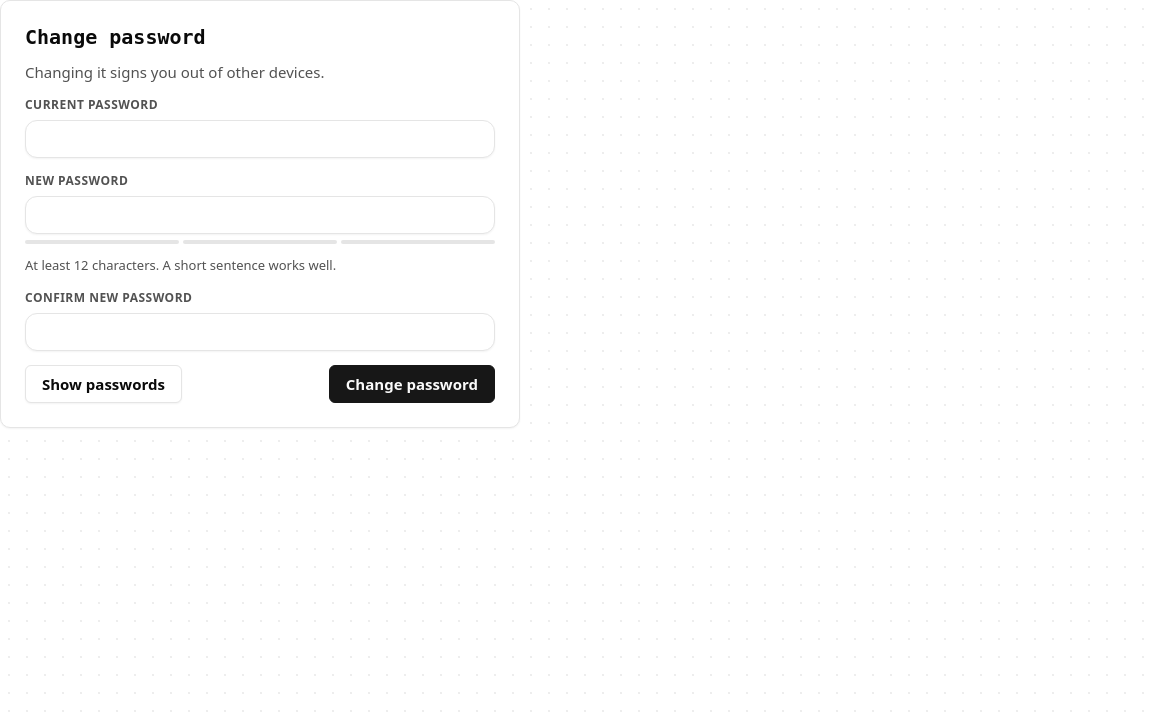
Test: ChangePasswordComponent › sends the current and new password, then confirms and clears the form
Type "Temp-Password-123" into the password field labelled "Current password" at (260, 138), box [25,120,495,158]
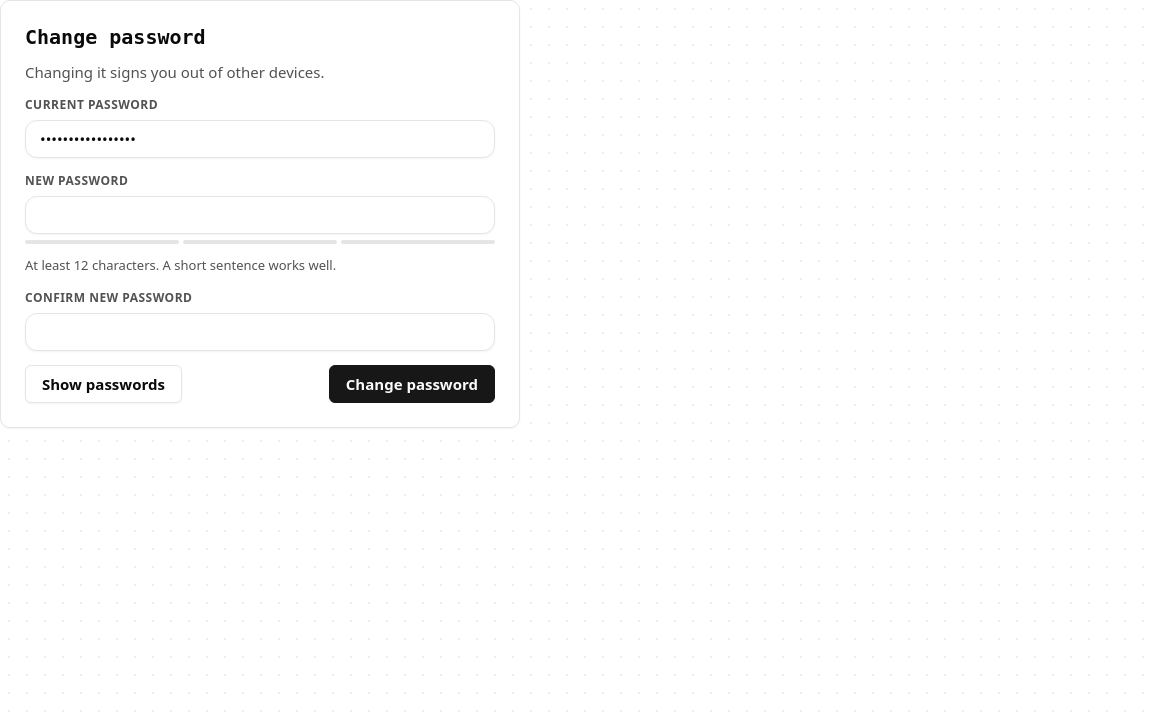
Type "A-brand-new-password" into the password field with test id "cp-new" at (260, 214), box [25,196,495,234]
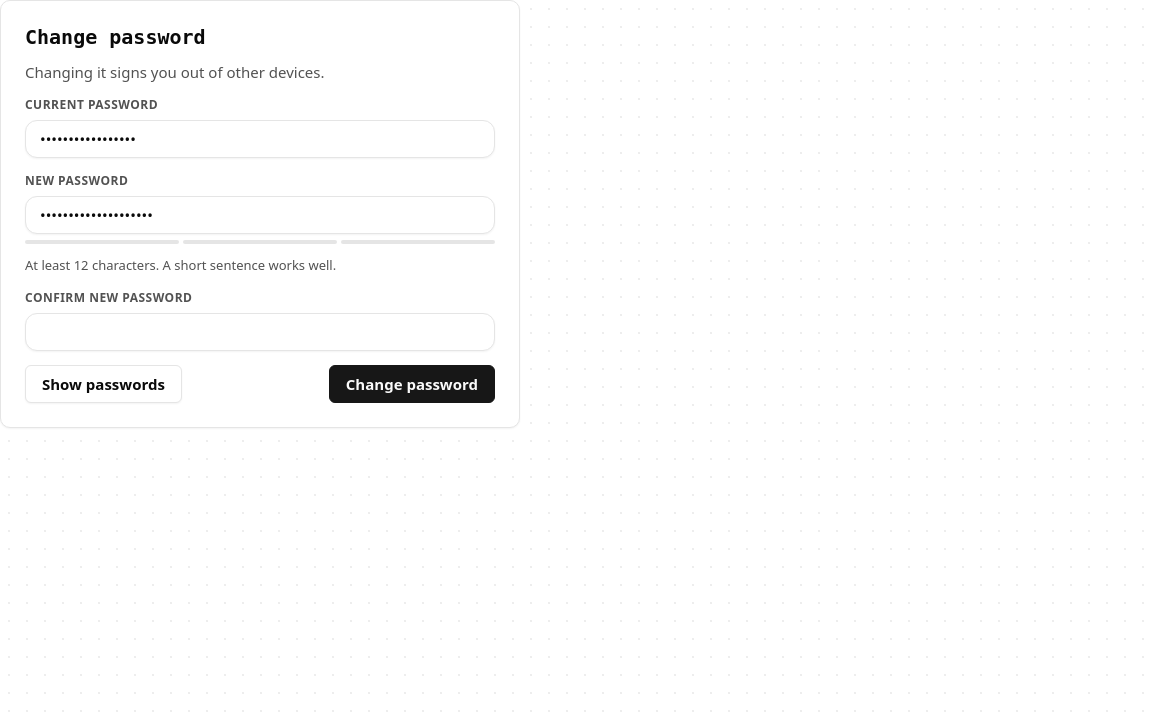
Type "A-brand-new-password" into the password field labelled "Confirm new password" at (260, 332), box [25,313,495,351]
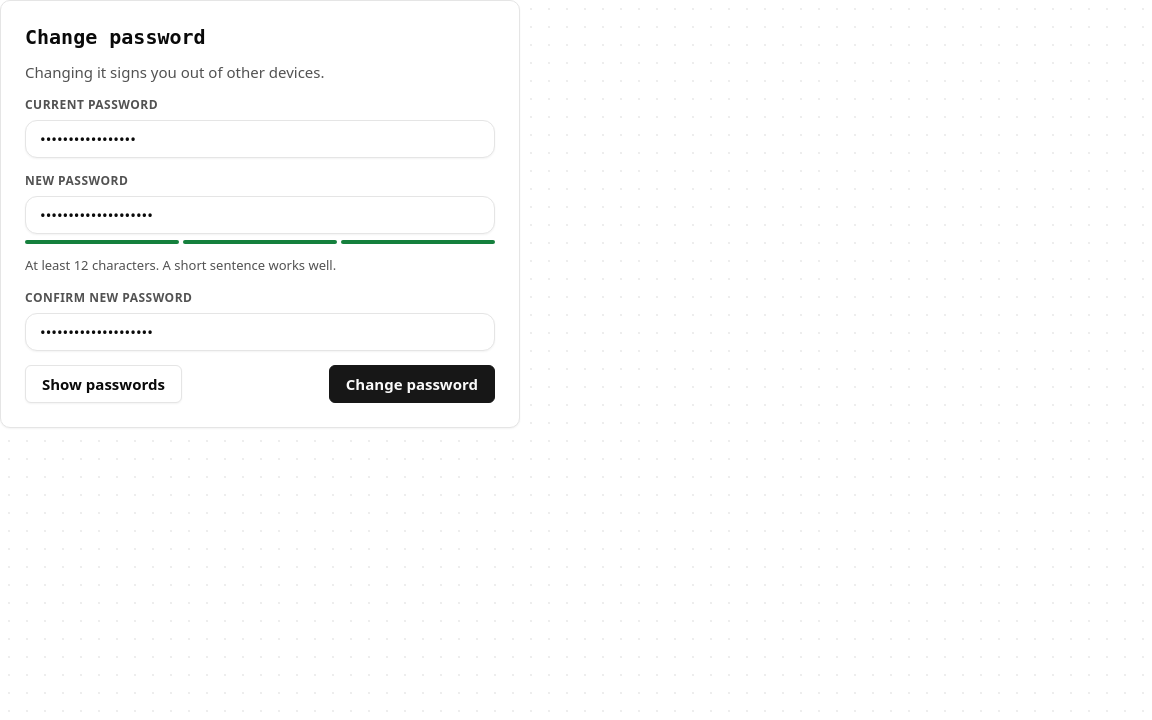
Click the button with test id "cp-submit" at (412, 384), box [329,365,495,403]
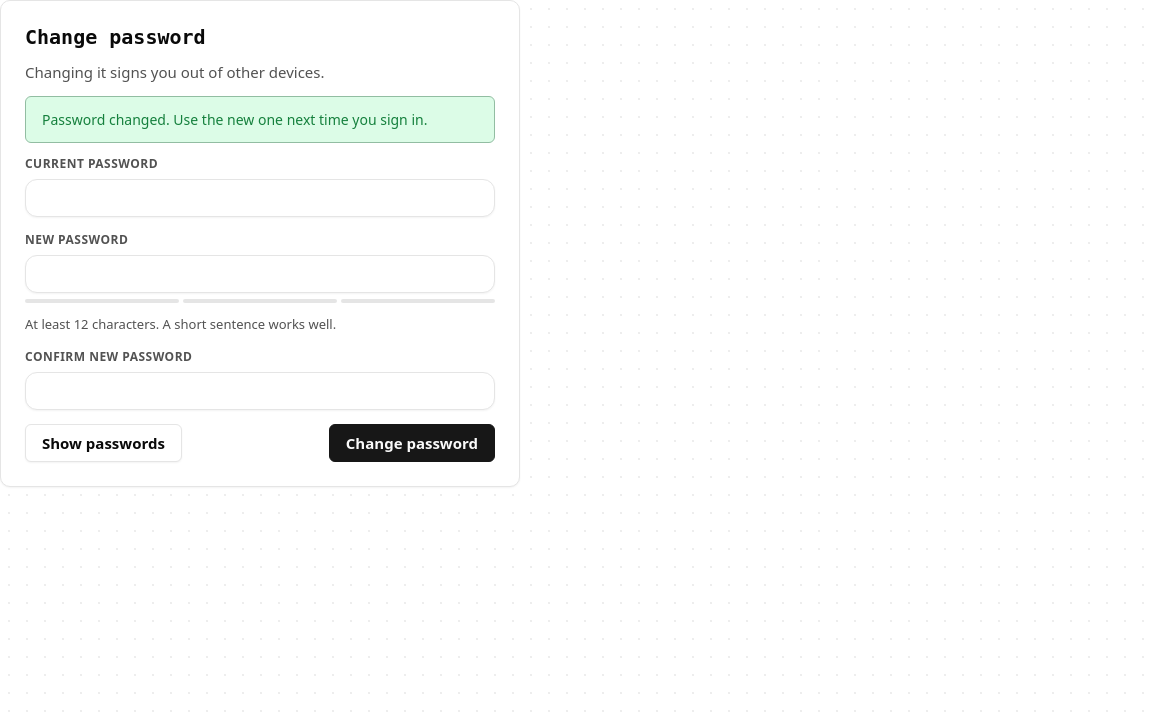
Now the message "Password changed. Use the new one next time you sign in." is shown, box [25,96,495,142]
Now the password field with test id "cp-new" is empty, box [25,254,495,292]
